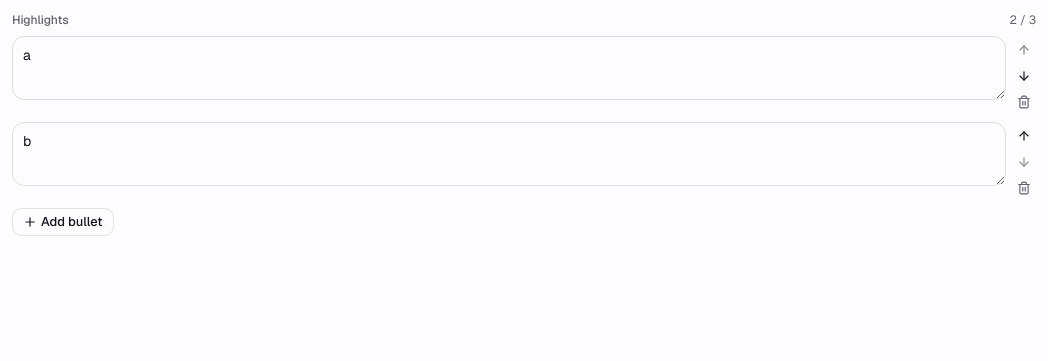
Test case: BulletListField › disables adding at the cap
The image size is (1048, 361).
Click the button "Add bullet": x=63, y=222 [12, 208, 114, 236]
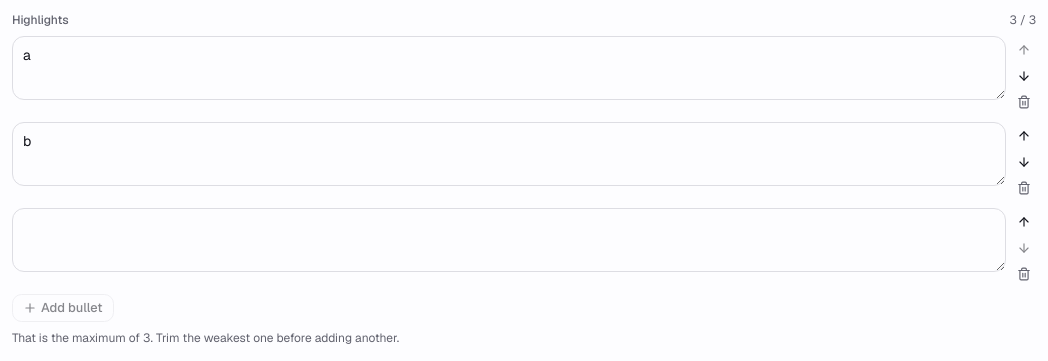
Expected: the button "Add bullet" is disabled, [12, 294, 114, 322]
